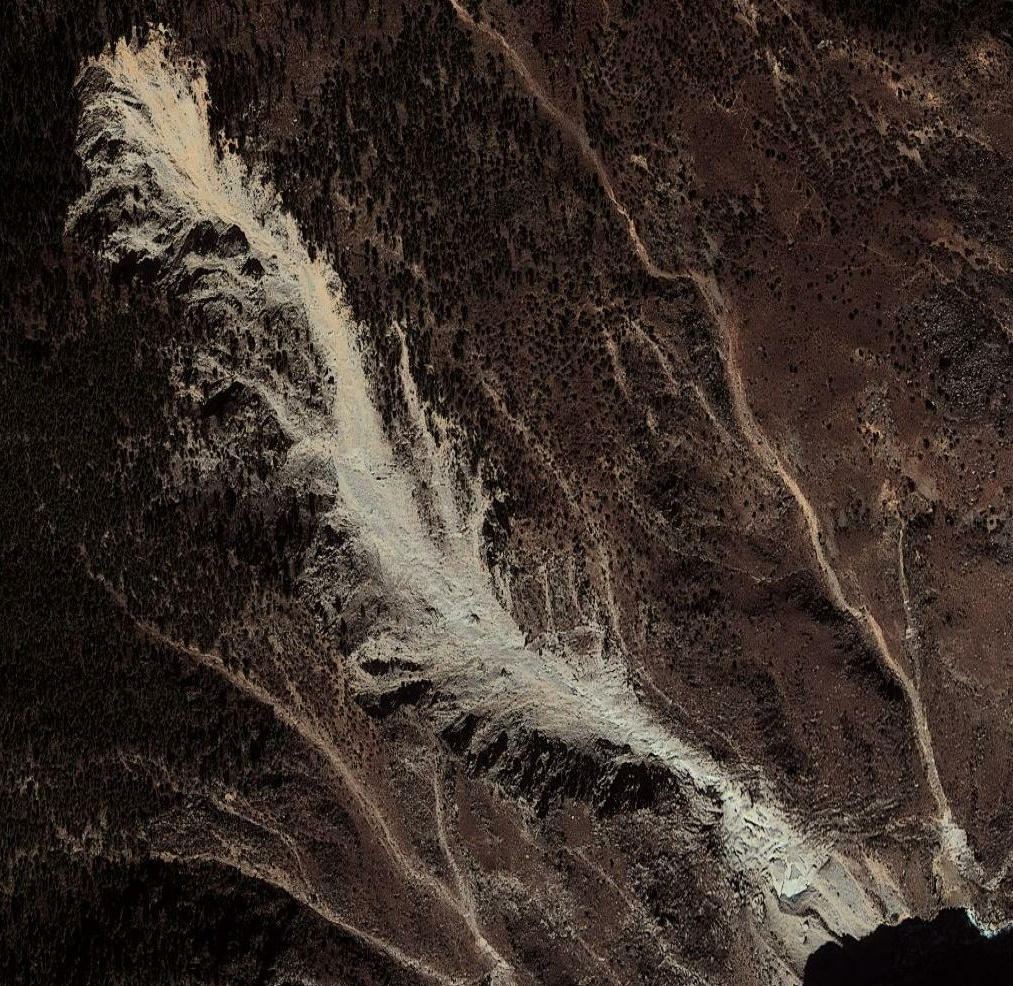slope: (62, 18, 911, 979), (932, 812, 1012, 944)
